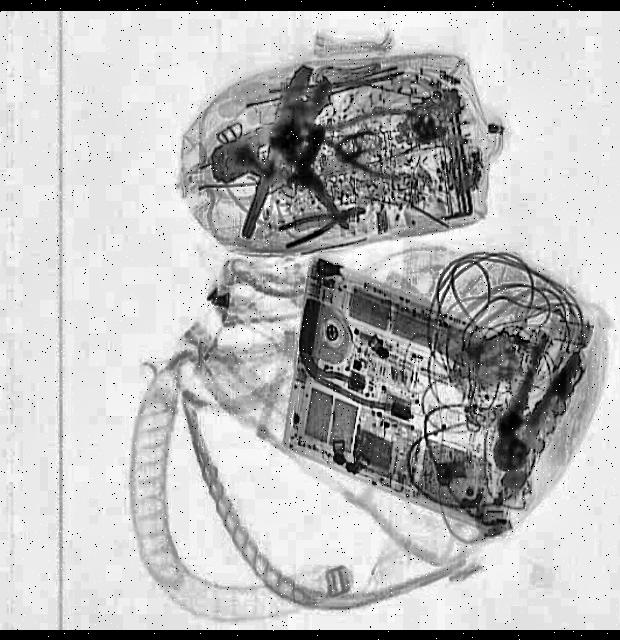Pliers: (241, 59, 371, 258), (475, 330, 588, 484), (204, 110, 336, 210), (282, 95, 412, 183), (275, 198, 369, 252)
